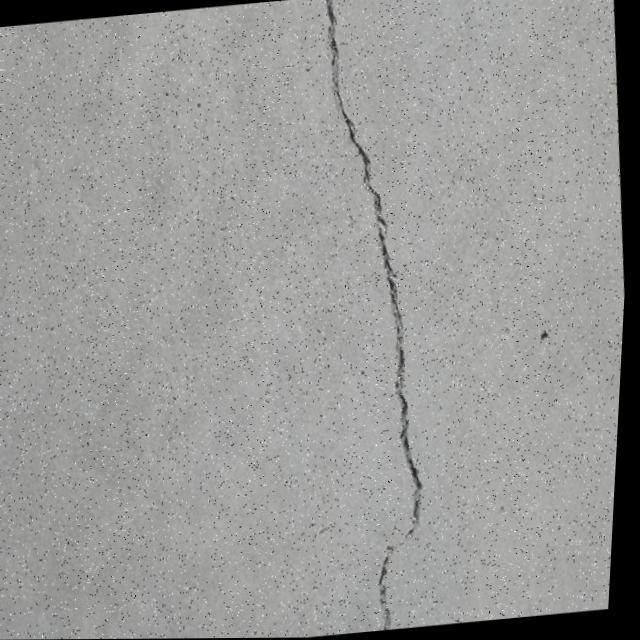Crack: (286, 0, 461, 635)
